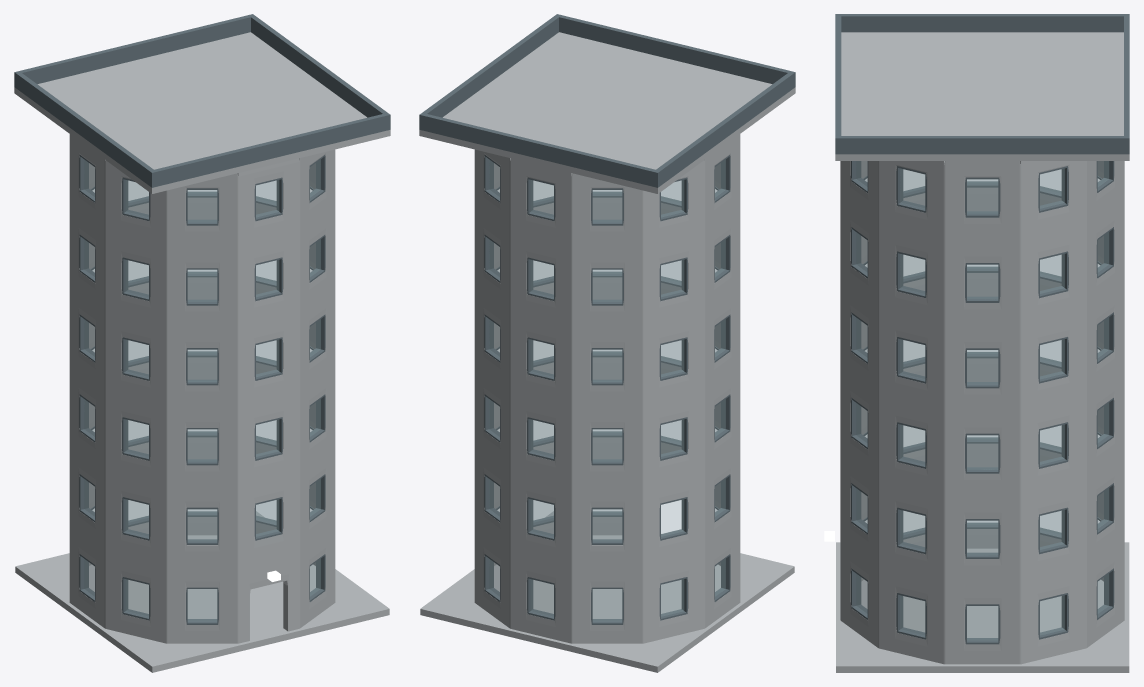
Rendered from tower_6_lod0.glb.
The picture shows the model from 3 angles, left to right: view 1: azimuth 30°, elevation 25°; view 2: azimuth 150°, elevation 25°; view 3: azimuth 270°, elevation 25°; orthographic projection. The views are drawn at different scales.
Parts seen in each view (by area): view 1: Ceiling baked, Wall_11 baked, Wall_0 baked, Wall_10 baked, Wall_9 baked, Wall_1 baked, Floor baked, Parapet baked, Parapet.002 baked, Wall_5 baked, Parapet.001 baked, Parapet.003 baked (+21 smaller); view 2: Ceiling baked, Wall_7 baked, Wall_6 baked, Wall_8 baked, Wall_9 baked, Wall_5 baked, Floor baked, Parapet.002 baked, Parapet baked, Wall_1 baked, Parapet.001 baked, Parapet.003 baked (+22 smaller); view 3: Ceiling baked, Wall_3 baked, Wall_4 baked, Wall_2 baked, Wall_1 baked, Wall_5 baked, Floor baked, Parapet.001 baked, Parapet.003 baked, Wall_9 baked, Glazing.017 baked, Glazing.019 baked (+23 smaller).
Part boxes in pixels (x1,y1,x2,y2): Ceiling baked: (14,32,390,193); Wall_11 baked: (167,173,237,643); Wall_0 baked: (237,158,299,643); Wall_10 baked: (105,160,166,643); Wall_9 baked: (69,134,105,628); Wall_1 baked: (299,149,335,628); Floor baked: (15,511,389,672); Parapet baked: (149,113,390,187); Parapet.002 baked: (14,14,254,88); Wall_5 baked: (187,197,217,535); Parapet.001 baked: (17,73,153,185); Parapet.003 baked: (251,16,387,117); Ceiling baked: (419,32,795,193); Wall_7 baked: (572,173,642,643); Wall_6 baked: (510,158,572,643); Wall_8 baked: (643,160,704,643); Wall_9 baked: (704,134,740,628); Wall_5 baked: (474,149,510,628); Floor baked: (420,511,794,672); Parapet.002 baked: (419,113,660,187); Parapet baked: (555,14,795,88); Wall_1 baked: (592,197,622,535); Parapet.001 baked: (656,73,792,185); Parapet.003 baked: (422,16,558,117); Ceiling baked: (835,32,1129,160); Wall_3 baked: (944,161,1020,664); Wall_4 baked: (1020,161,1086,664); Wall_2 baked: (878,161,944,664); Wall_1 baked: (840,161,878,647); Wall_5 baked: (1086,161,1124,647); Floor baked: (836,542,1129,672); Parapet.001 baked: (841,14,1123,32); Parapet.003 baked: (841,136,1123,154); Wall_9 baked: (967,187,998,548); Glazing.017 baked: (967,606,997,640); Glazing.019 baked: (967,435,997,469).
Size of the model in its own units: 10 by 20.05 by 10.38.
